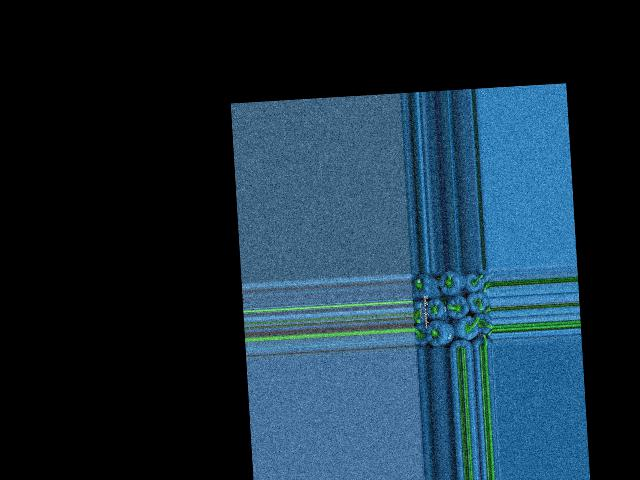bell_pepper: (413, 321, 431, 349)
